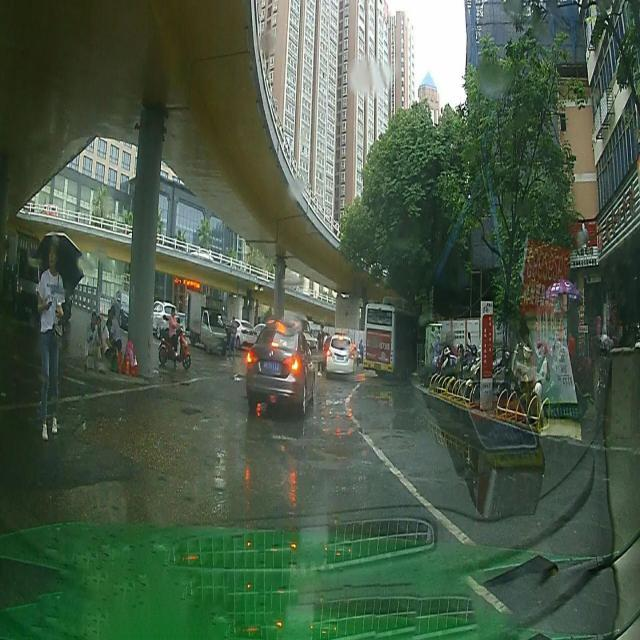car: (244, 329, 316, 411), (192, 292, 228, 351), (326, 334, 356, 380)
